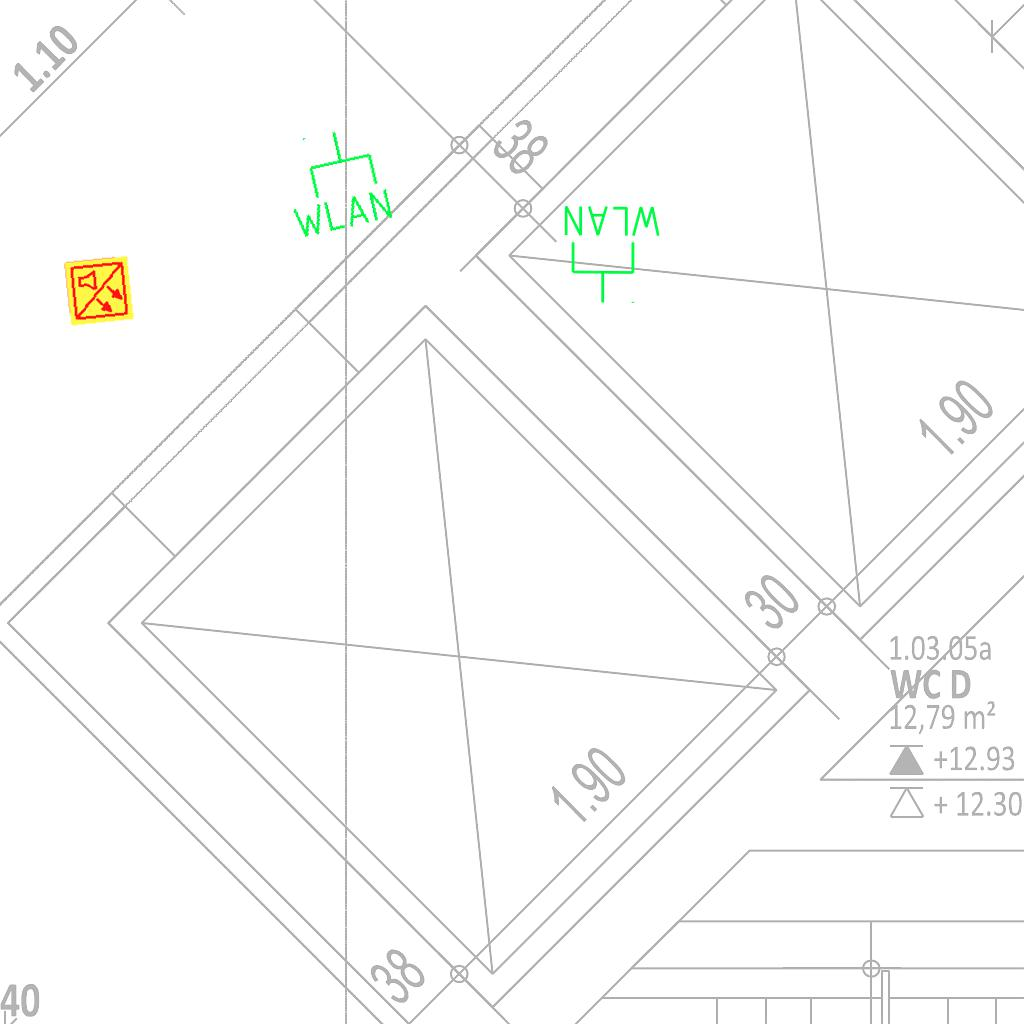OKW_Multisensormelder_(Kombination_optischer_Rauch-Kahlenmonoxid_Waerme-Melder): (62, 254, 136, 328)
WLAN: (272, 119, 398, 244), (560, 202, 665, 306)
